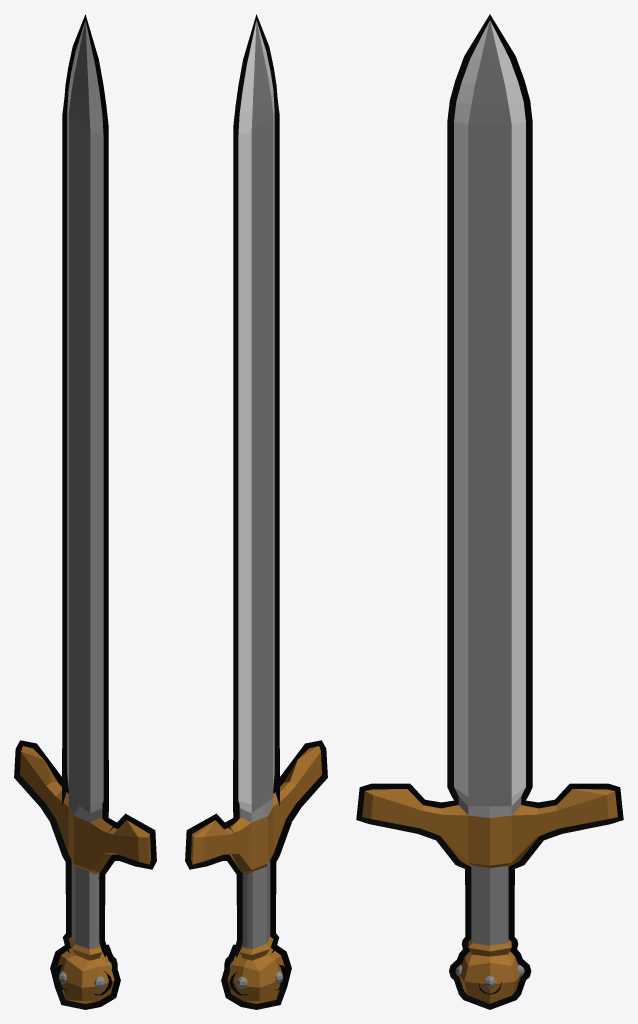
Rendered from Sword_8.fbx.
3 renders of one model, left to right at view 1: azimuth 30°, elevation 25°; view 2: azimuth 150°, elevation 25°; view 3: azimuth 270°, elevation 25°, orthographic.
Parts seen in each view (by area): view 1: Sword_8, Sword_8_outliner; view 2: Sword_8, Sword_8_outliner; view 3: Sword_8, Sword_8_outliner.
Part boxes in pixels (x1,y1,x2,y2): Sword_8: [20, 20, 150, 1003]; Sword_8_outliner: [14, 14, 156, 1009]; Sword_8: [191, 20, 321, 1003]; Sword_8_outliner: [185, 14, 327, 1009]; Sword_8: [362, 20, 617, 1003]; Sword_8_outliner: [356, 14, 623, 1009].
Size of the model in its own units: 21.31 by 315 by 76.61.
